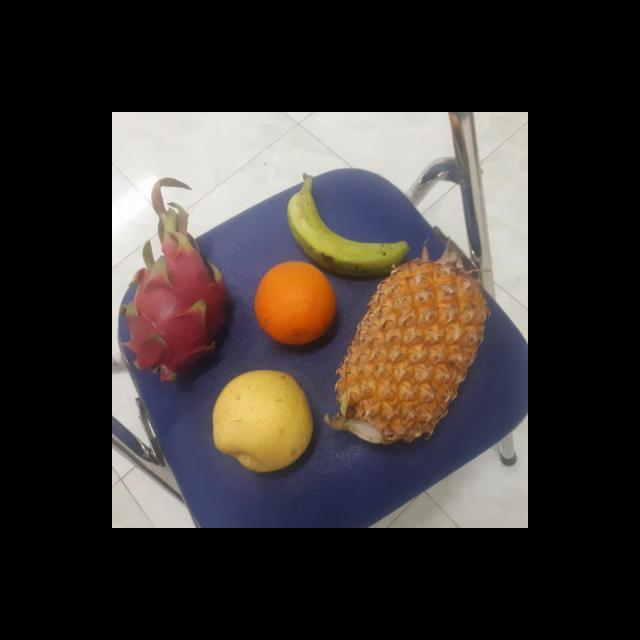banana: (288, 178, 414, 276)
orange: (250, 261, 341, 348)
pear: (207, 372, 319, 476)
pineapple: (330, 263, 492, 442)
pitaya: (121, 241, 232, 389)
